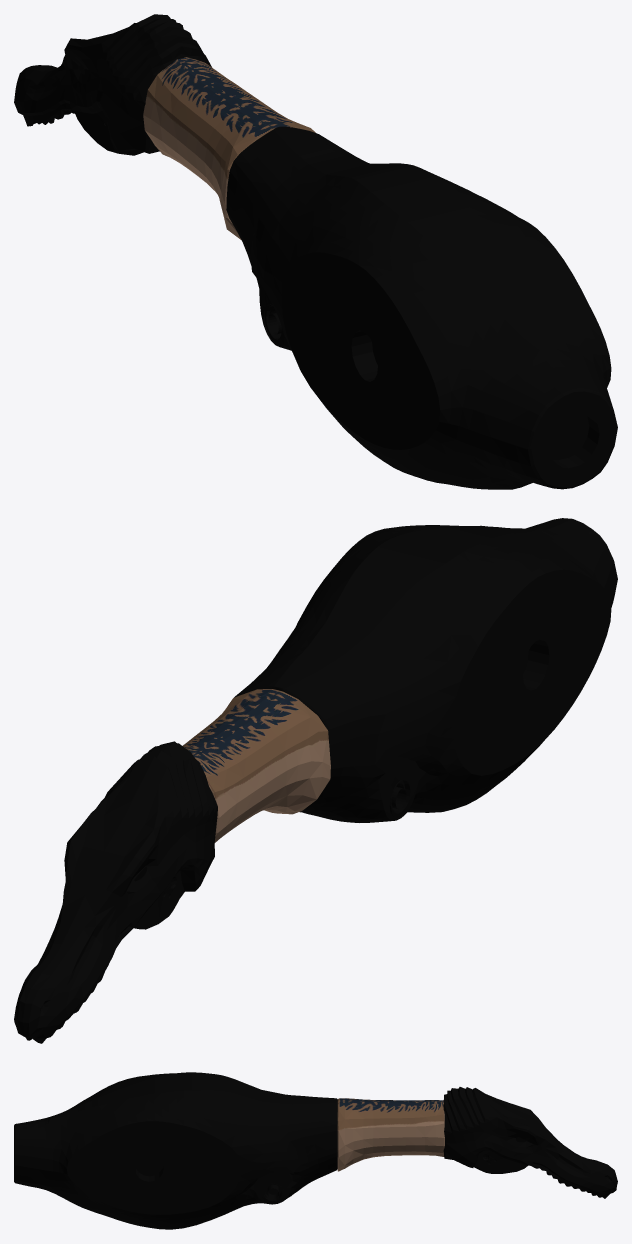
File: Cuerpo.obj
3 renders of one model, top to bottom at view 1: azimuth 30°, elevation 25°; view 2: azimuth 150°, elevation 25°; view 3: azimuth 270°, elevation 25°, orthographic. The views are drawn at different scales.
Visible parts, largest first — view 1: polySurface16 polySurface14 polySurface12 polySurface10 polySurf; view 2: polySurface16 polySurface14 polySurface12 polySurface10 polySurf; view 3: polySurface16 polySurface14 polySurface12 polySurface10 polySurf.
Boxes of the visible parts, bbox=[...] form: polySurface16 polySurface14 polySurface12 polySurface10 polySurf: bbox=[14, 14, 617, 489]; polySurface16 polySurface14 polySurface12 polySurface10 polySurf: bbox=[14, 518, 617, 1043]; polySurface16 polySurface14 polySurface12 polySurface10 polySurf: bbox=[14, 1072, 617, 1229].
Bounding box in the file's own units: 1.77 × 2.56 × 9.89.
5 materials, 1 textured.
